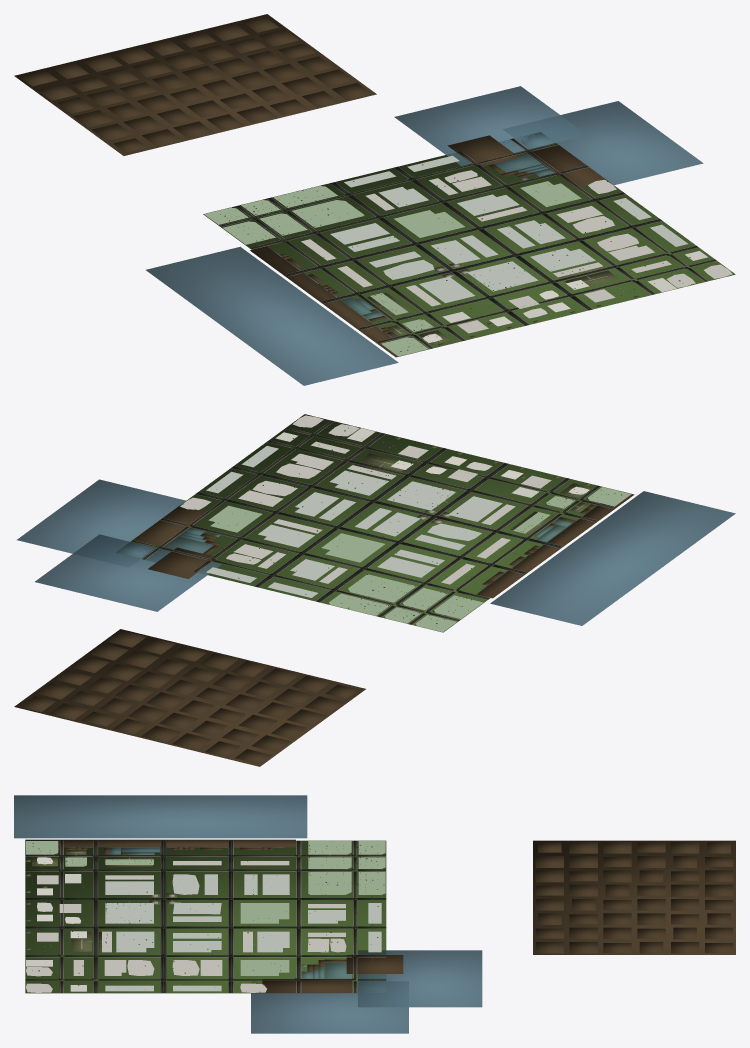
Rendered from agentspace-world-phase2.glb.
The picture shows the model from 3 angles, top to bottom: view 1: azimuth 30°, elevation 25°; view 2: azimuth 150°, elevation 25°; view 3: azimuth 270°, elevation 25°; orthographic projection. The views are drawn at different scales.
Visible parts, largest first — view 1: TerrainCampus, OceanWest, LandPreviewBase, OceanHarbour, OceanMarsh, CoastWest, CoastHarbour, land-campus-1, park-southpark-5, CoastMarsh, park-parklands-3, land-creative-2 (+11 smaller); view 2: TerrainCampus, OceanWest, LandPreviewBase, OceanHarbour, OceanMarsh, CoastWest, CoastHarbour, land-campus-1, park-southpark-5, CoastMarsh, park-parklands-3, land-creative-2 (+11 smaller); view 3: TerrainCampus, OceanWest, LandPreviewBase, OceanHarbour, OceanMarsh, CoastWest, CoastHarbour, land-campus-1, CoastMarsh, park-parklands-3, park-southpark-5, land-creative-2 (+15 smaller).
Part boxes in pixels (bbox=[...]): TerrainCampus: bbox=[203, 138, 735, 353]; OceanWest: bbox=[146, 246, 398, 385]; LandPreviewBase: bbox=[14, 14, 376, 155]; OceanHarbour: bbox=[503, 101, 703, 187]; OceanMarsh: bbox=[394, 86, 587, 165]; CoastWest: bbox=[250, 246, 412, 357]; CoastHarbour: bbox=[528, 145, 607, 188]; land-campus-1: bbox=[467, 261, 538, 291]; park-southpark-5: bbox=[292, 200, 364, 227]; CoastMarsh: bbox=[447, 135, 519, 167]; park-parklands-3: bbox=[394, 210, 464, 237]; land-creative-2: bbox=[530, 248, 595, 271]; TerrainCampus: bbox=[130, 414, 617, 632]; OceanWest: bbox=[490, 491, 735, 625]; LandPreviewBase: bbox=[14, 629, 365, 766]; OceanHarbour: bbox=[17, 479, 185, 566]; OceanMarsh: bbox=[35, 534, 221, 611]; CoastWest: bbox=[476, 490, 634, 598]; CoastHarbour: bbox=[133, 505, 210, 546]; land-campus-1: bbox=[387, 481, 455, 510]; park-southpark-5: bbox=[348, 574, 416, 602]; CoastMarsh: bbox=[148, 547, 217, 578]; park-parklands-3: bbox=[321, 533, 384, 562]; land-creative-2: bbox=[330, 470, 388, 495]; TerrainCampus: bbox=[25, 840, 386, 993]; OceanWest: bbox=[14, 795, 307, 838]; LandPreviewBase: bbox=[533, 840, 735, 954]; OceanHarbour: bbox=[251, 981, 408, 1033]; OceanMarsh: bbox=[358, 950, 482, 1007]; CoastWest: bbox=[25, 839, 295, 847]; CoastHarbour: bbox=[262, 979, 352, 992]; land-campus-1: bbox=[105, 903, 153, 923]; CoastMarsh: bbox=[346, 955, 403, 973]; park-parklands-3: bbox=[240, 903, 289, 923]; park-southpark-5: bbox=[308, 872, 351, 894]; land-creative-2: bbox=[116, 931, 154, 952].
Bounding box in the file's own units: 3200 × 9.54 × 4096.
Materials: 33 (15 with a texture image).
